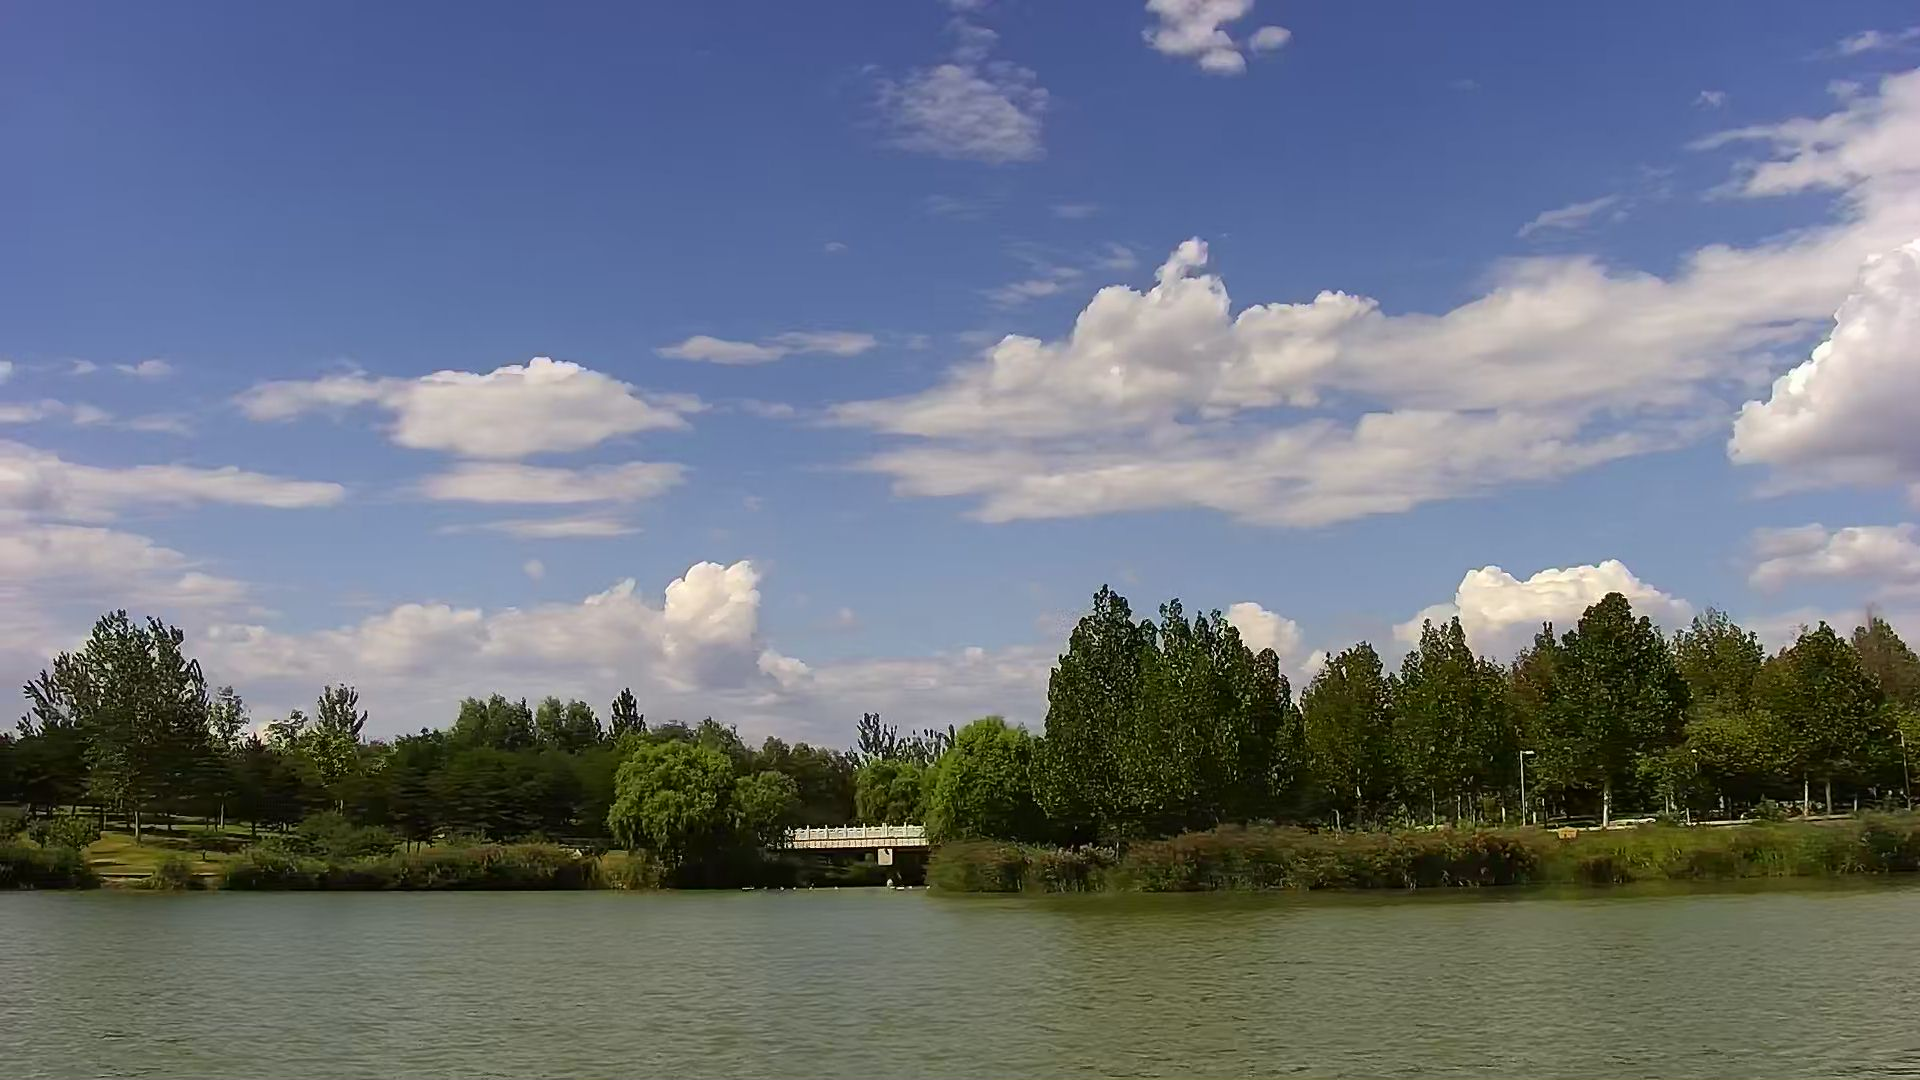bridge: (789, 823, 934, 891)
